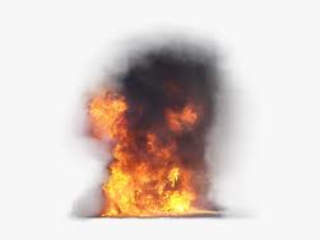fire: (93, 102, 216, 217)
smoke: (129, 45, 214, 156)
